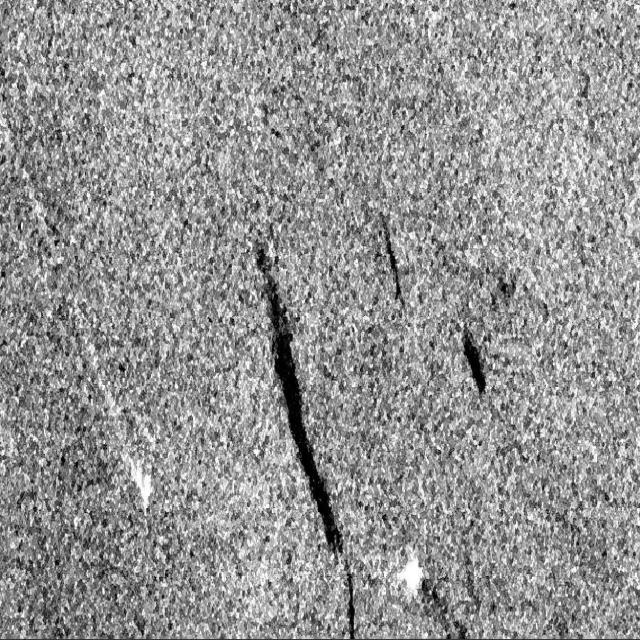oil-spill: (241, 243, 365, 638), (371, 210, 412, 307), (418, 574, 476, 640), (456, 317, 490, 407)
ship: (119, 436, 158, 522), (393, 546, 427, 602)
